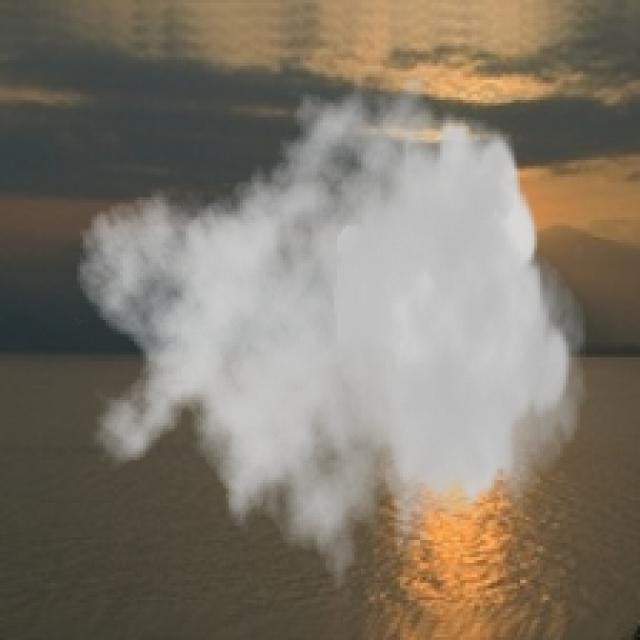Smoke: (74, 63, 589, 612)
